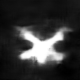plane: (13, 23, 72, 66)
